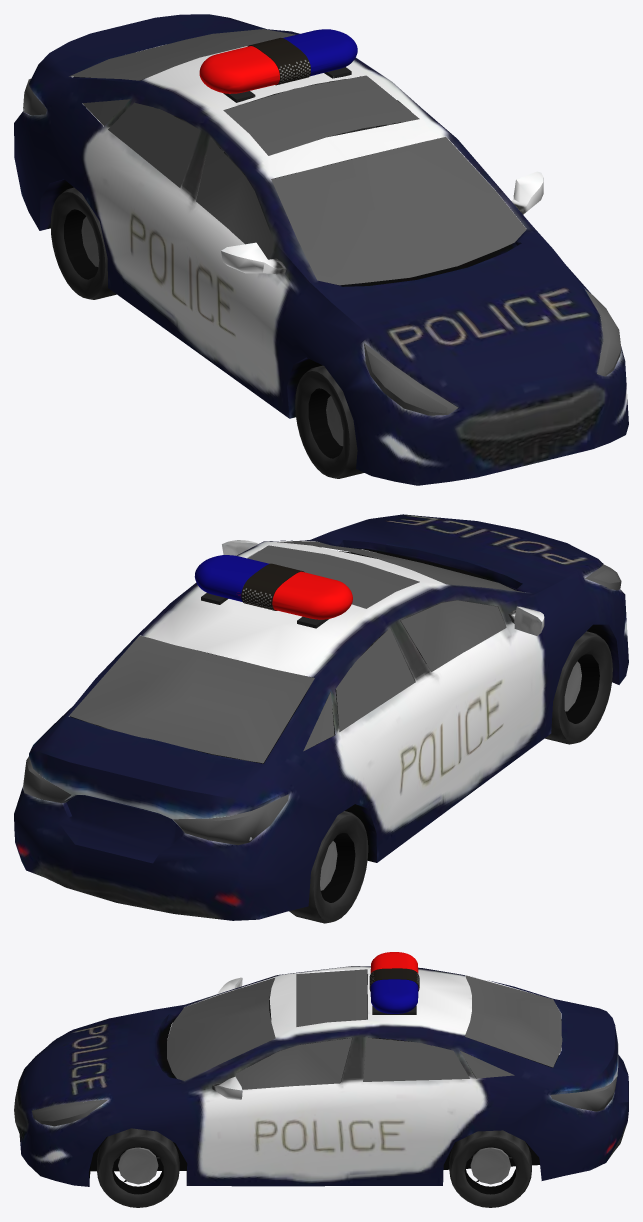
The model's file is n_policeE.glb.
3 renders of one model, top to bottom at view 1: azimuth 30°, elevation 25°; view 2: azimuth 150°, elevation 25°; view 3: azimuth 270°, elevation 25°, orthographic. The views are drawn at different scales.
Parts seen in each view (by area): view 1: _g1_0, 2_g3_0, Police Lamp_g0_0, wheel_fr, wheel_rr; view 2: _g1_0, 2_g3_0, Police Lamp_g0_0, wheel_fr, wheel_rr, 1_g2_0; view 3: _g1_0, 2_g3_0, wheel_fl, wheel_rl, Police Lamp_g0_0.
Part boxes in pixels (bbox=[...]): _g1_0: bbox=[14, 14, 628, 485]; 2_g3_0: bbox=[23, 29, 621, 415]; Police Lamp_g0_0: bbox=[199, 29, 357, 102]; wheel_fr: bbox=[295, 365, 363, 478]; wheel_rr: bbox=[50, 187, 116, 299]; _g1_0: bbox=[14, 514, 628, 920]; 2_g3_0: bbox=[23, 541, 621, 845]; Police Lamp_g0_0: bbox=[194, 555, 352, 628]; wheel_fr: bbox=[545, 631, 612, 744]; wheel_rr: bbox=[289, 811, 368, 923]; 1_g2_0: bbox=[69, 546, 505, 763]; _g1_0: bbox=[14, 966, 628, 1186]; 2_g3_0: bbox=[32, 969, 616, 1126]; wheel_fl: bbox=[97, 1128, 179, 1207]; wheel_rl: bbox=[449, 1130, 531, 1207]; Police Lamp_g0_0: bbox=[369, 952, 419, 1014].
Size of the model in its own units: 2.16 by 1.7 by 4.97.
Materials: 4 (3 with a texture image).
